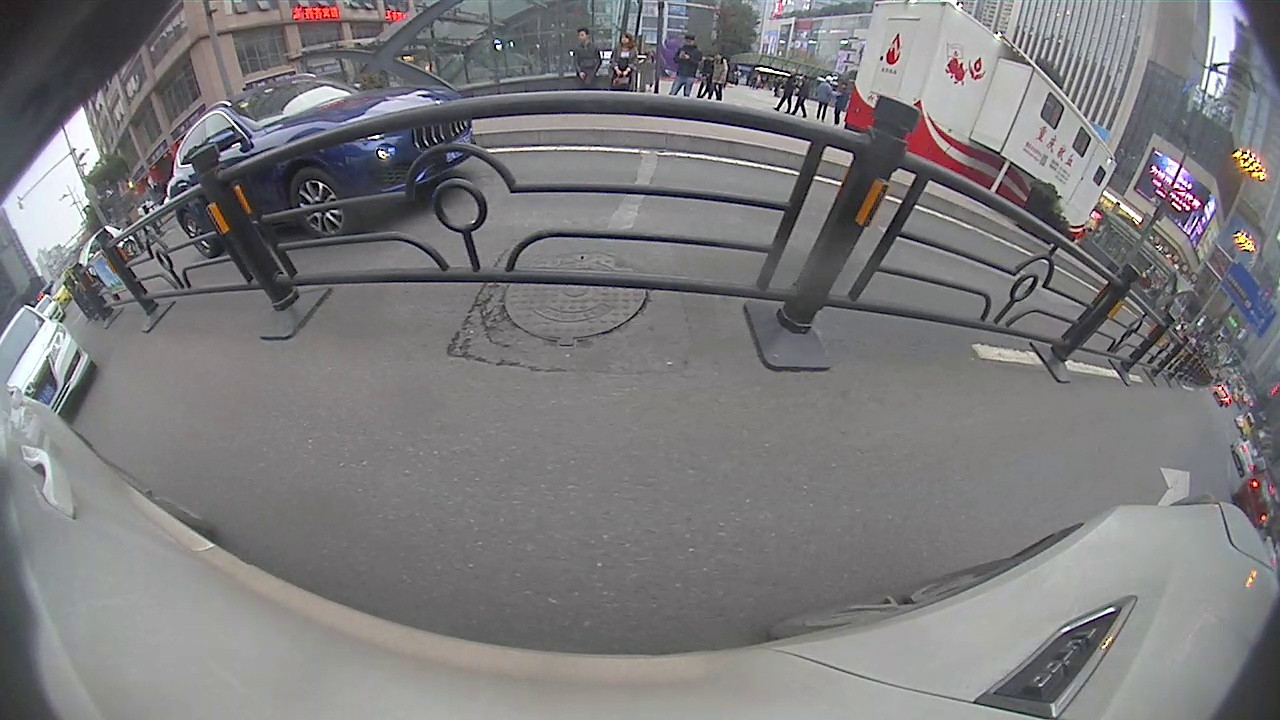car: (163, 74, 477, 260), (1, 307, 93, 421)
front: (284, 169, 350, 238)
rear: (176, 214, 215, 259)
